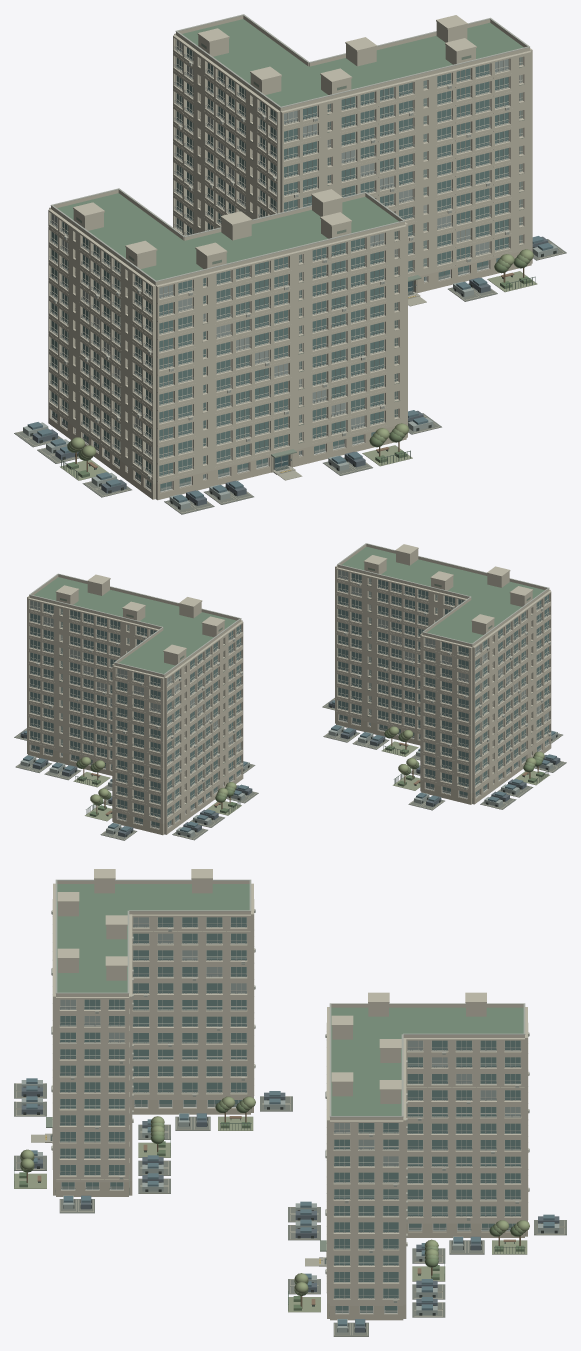
File: old-2.glb
3 views of the same model, one above another, from view 1: azimuth 30°, elevation 25°; view 2: azimuth 150°, elevation 25°; view 3: azimuth 270°, elevation 25° (orthographic). The views are drawn at different scales.
Parts seen in each view (by area): view 1: korean-facade-parts-cac6b4, korean-facade-surface-718b87, korean-facade-parts-d1d0bf, old-2, korean-facade-parts-8f9b97, korean-facade-parts-c5c0ae, korean-facade-surface-9eaaa4, korean-facade-parts-b8bcb2, korean-facade-parts-858b82, korean-facade-parts-6c858b, korean-facade-parts-a5b1ab, korean-facade-parts-9ba48a (+5 smaller); view 2: korean-facade-parts-cac6b4, korean-facade-surface-718b87, korean-facade-parts-d1d0bf, old-2, korean-facade-parts-8f9b97, korean-facade-parts-c5c0ae, korean-facade-parts-858b82, korean-facade-surface-9eaaa4, korean-facade-parts-b8bcb2, korean-facade-parts-9ba48a, korean-facade-parts-6c858b, korean-facade-parts-a5b1ab (+9 smaller); view 3: korean-facade-parts-cac6b4, korean-facade-surface-718b87, old-2, korean-facade-parts-d1d0bf, korean-facade-parts-8f9b97, korean-facade-parts-858b82, korean-facade-parts-c5c0ae, korean-facade-parts-b8bcb2, korean-facade-surface-9eaaa4, korean-facade-parts-9ba48a, korean-facade-parts-6c858b, korean-facade-parts-a5b1ab (+9 smaller).
Boxes of the visible parts, left/top/right/bottom form: korean-facade-parts-cac6b4: left=48, top=15, right=532, bottom=484; korean-facade-surface-718b87: left=51, top=47, right=522, bottom=488; korean-facade-parts-d1d0bf: left=51, top=39, right=523, bottom=476; old-2: left=57, top=19, right=523, bottom=498; korean-facade-parts-8f9b97: left=49, top=46, right=509, bottom=476; korean-facade-parts-c5c0ae: left=48, top=248, right=532, bottom=500; korean-facade-surface-9eaaa4: left=51, top=40, right=522, bottom=456; korean-facade-parts-b8bcb2: left=50, top=14, right=529, bottom=282; korean-facade-parts-858b82: left=14, top=239, right=566, bottom=514; korean-facade-parts-6c858b: left=27, top=236, right=553, bottom=502; korean-facade-parts-a5b1ab: left=23, top=243, right=557, bottom=509; korean-facade-parts-9ba48a: left=60, top=271, right=537, bottom=480; korean-facade-parts-cac6b4: left=27, top=544, right=551, bottom=823; korean-facade-surface-718b87: left=30, top=573, right=548, bottom=825; korean-facade-parts-d1d0bf: left=29, top=570, right=549, bottom=817; old-2: left=34, top=546, right=544, bottom=673; korean-facade-parts-8f9b97: left=29, top=576, right=550, bottom=817; korean-facade-parts-c5c0ae: left=27, top=712, right=551, bottom=835; korean-facade-parts-858b82: left=14, top=698, right=566, bottom=840; korean-facade-surface-9eaaa4: left=30, top=570, right=548, bottom=751; korean-facade-parts-b8bcb2: left=29, top=543, right=549, bottom=674; korean-facade-parts-9ba48a: left=73, top=741, right=549, bottom=821; korean-facade-parts-6c858b: left=23, top=700, right=556, bottom=832; korean-facade-parts-a5b1ab: left=20, top=725, right=557, bottom=837; korean-facade-parts-cac6b4: left=52, top=869, right=528, bottom=1305; korean-facade-surface-718b87: left=60, top=917, right=520, bottom=1312; old-2: left=56, top=884, right=523, bottom=1115; korean-facade-parts-d1d0bf: left=59, top=917, right=521, bottom=1298; korean-facade-parts-8f9b97: left=60, top=925, right=520, bottom=1299; korean-facade-parts-858b82: left=14, top=1083, right=566, bottom=1336; korean-facade-parts-c5c0ae: left=53, top=1100, right=527, bottom=1320; korean-facade-parts-b8bcb2: left=55, top=879, right=525, bottom=1117; korean-facade-surface-9eaaa4: left=60, top=917, right=520, bottom=1165; korean-facade-parts-9ba48a: left=14, top=1116, right=527, bottom=1312; korean-facade-parts-6c858b: left=26, top=1078, right=554, bottom=1325; korean-facade-parts-a5b1ab: left=21, top=1080, right=559, bottom=1332.
Size of the model in its own units: 106 by 38.75 by 90.8.
